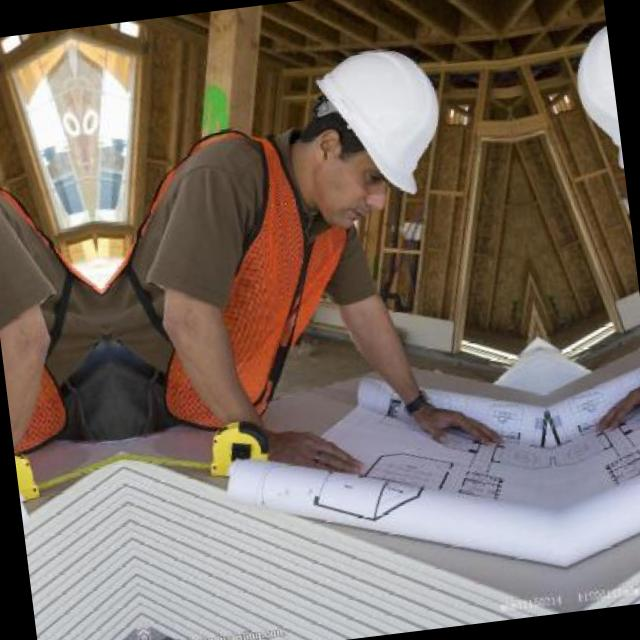helmet: (270, 21, 464, 248), (552, 0, 626, 214)
